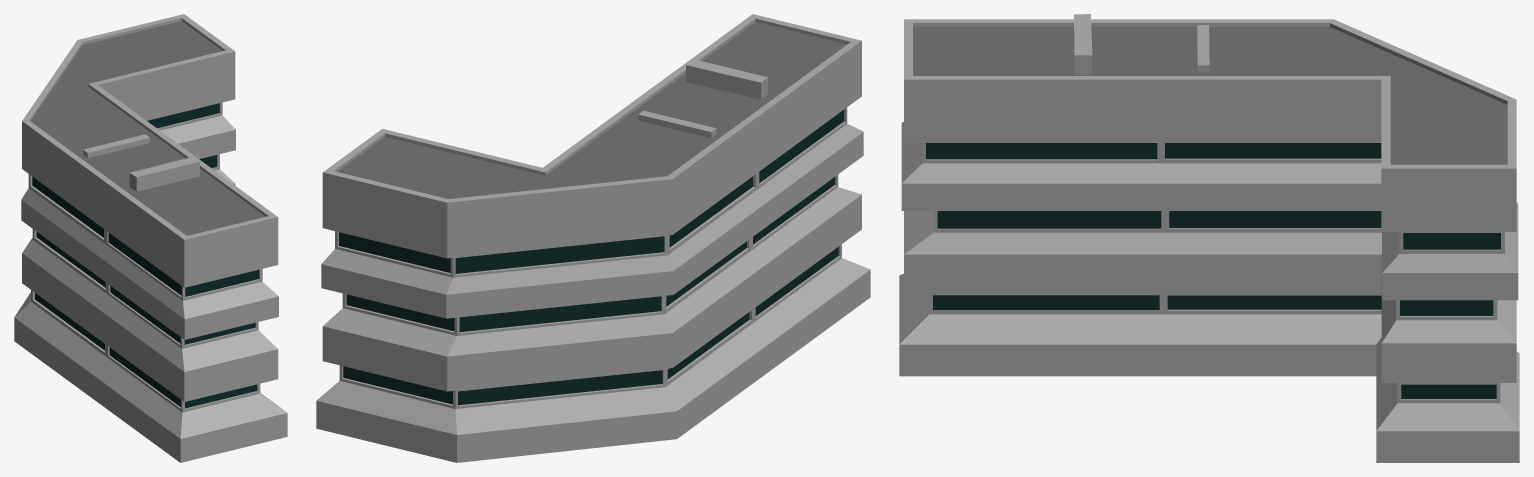
3 views of the same model, side by side, from view 1: azimuth 30°, elevation 25°; view 2: azimuth 150°, elevation 25°; view 3: azimuth 270°, elevation 25° (orthographic). The views are drawn at different scales.
Parts seen in each view (by area): view 1: Corner bld; view 2: Corner bld; view 3: Corner bld.
Part boxes in pixels (x1,y1,x2,y2): Corner bld: (14,14,287,462); Corner bld: (316,14,870,462); Corner bld: (899,14,1519,462).
Bounding box in the file's own units: 400 × 367 × 673.
